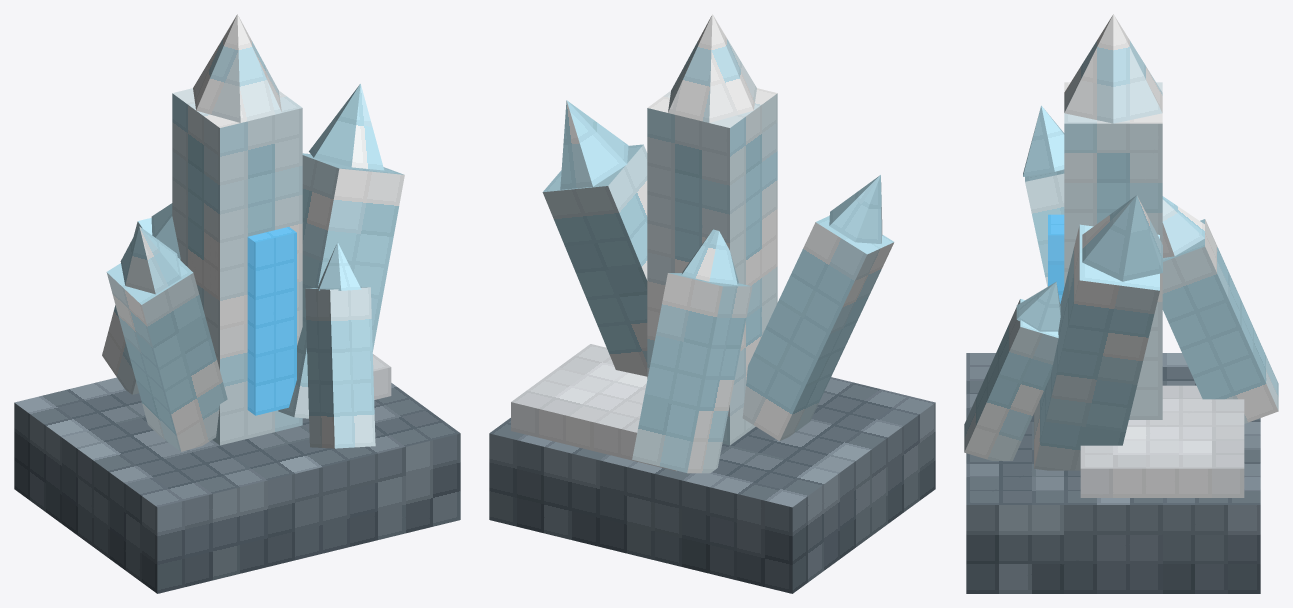
The model's file is IceCrystalCluster.glb.
3 renders of one model, left to right at view 1: azimuth 30°, elevation 25°; view 2: azimuth 150°, elevation 25°; view 3: azimuth 270°, elevation 25°, orthographic. The views are drawn at different scales.
Visible parts, largest first — view 1: Body, BodyDark, Glow, Accessory; view 2: Body, BodyDark, Accessory; view 3: Body, BodyDark, Accessory, Glow.
Boxes of the visible parts, left/top/right/bottom form: Body: left=102, top=14, right=404, bottom=451; BodyDark: left=14, top=377, right=460, bottom=593; Glow: left=247, top=227, right=296, bottom=415; Accessory: left=373, top=354, right=391, bottom=399; Body: left=542, top=14, right=894, bottom=473; BodyDark: left=489, top=377, right=935, bottom=593; Accessory: left=511, top=344, right=676, bottom=471; Body: left=964, top=14, right=1278, bottom=470; BodyDark: left=966, top=353, right=1260, bottom=593; Accessory: left=1080, top=385, right=1244, bottom=497; Glow: left=1048, top=214, right=1064, bottom=303.
Size of the model in its own units: 2.75 by 4.25 by 2.4.
4 materials, 4 textured.
